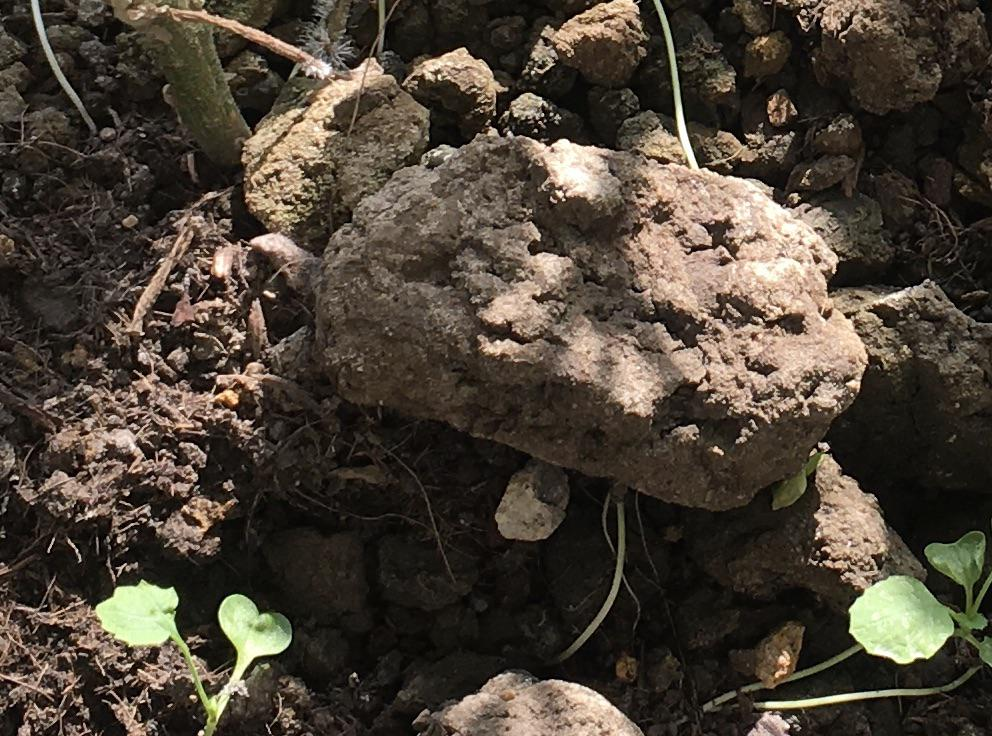block: (308, 134, 864, 514), (238, 63, 430, 235)
